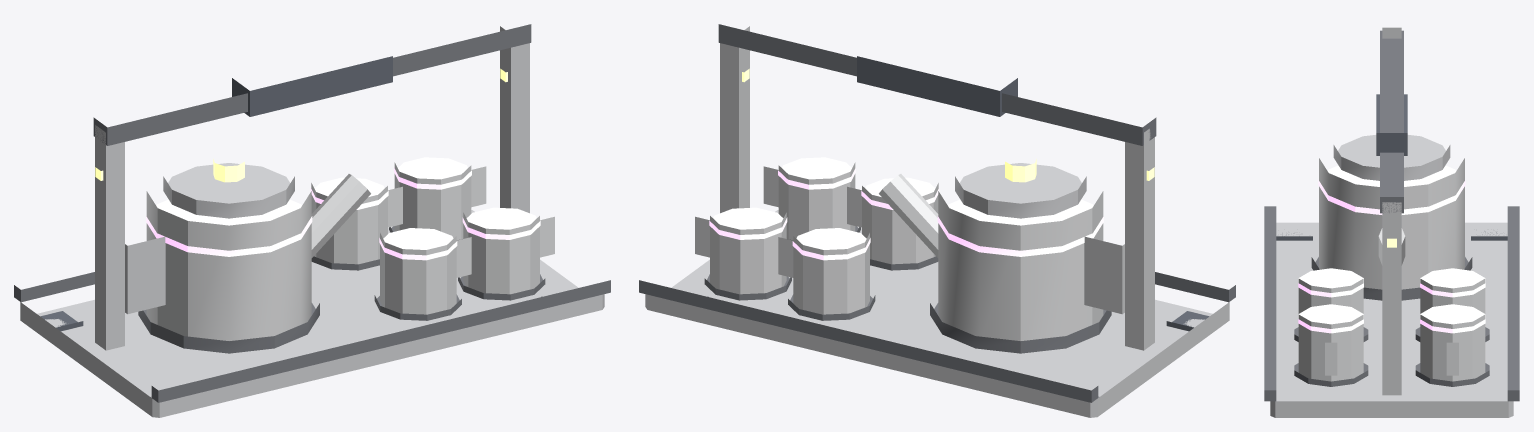
The model's file is tea_set_rail_caddy.glb.
3 renders of one model, left to right at view 1: azimuth 30°, elevation 25°; view 2: azimuth 150°, elevation 25°; view 3: azimuth 270°, elevation 25°, orthographic. The views are drawn at different scales.
Parts seen in each view (by area): view 1: Caddy_Base, Pot_Body, Cups, Handle_Posts, Caddy_Rim, Cup_Rim_Bands, Handle_Bar, Pot_Lid, Grip_Sleeve, Pot_Handle, Pot_Dock_Ring, Pot_Band (+3 smaller); view 2: Caddy_Base, Pot_Body, Cups, Handle_Posts, Caddy_Rim, Cup_Rim_Bands, Handle_Bar, Pot_Lid, Grip_Sleeve, Pot_Handle, Pot_Dock_Ring, Pot_Band (+3 smaller); view 3: Caddy_Base, Pot_Body, Cups, Cup_Rim_Bands, Caddy_Rim, Handle_Posts, Handle_Bar, Pot_Lid, Pot_Band, Peg_Collars, Grip_Sleeve, Cup_Handles (+3 smaller).
Part boxes in pixels (x1,y1,x2,y2): Caddy_Base: [20, 210, 604, 417]; Pot_Body: [146, 191, 311, 340]; Cups: [311, 162, 539, 314]; Handle_Posts: [95, 26, 529, 350]; Caddy_Rim: [14, 272, 610, 402]; Cup_Rim_Bands: [310, 157, 540, 260]; Handle_Bar: [93, 24, 531, 145]; Pot_Lid: [163, 163, 294, 218]; Grip_Sleeve: [232, 56, 392, 116]; Pot_Handle: [125, 236, 165, 314]; Pot_Dock_Ring: [138, 303, 319, 353]; Pot_Band: [146, 199, 312, 256]; Caddy_Base: [645, 210, 1229, 417]; Pot_Body: [938, 191, 1103, 340]; Cups: [710, 162, 938, 314]; Handle_Posts: [720, 26, 1154, 350]; Caddy_Rim: [639, 272, 1235, 402]; Cup_Rim_Bands: [709, 157, 939, 260]; Handle_Bar: [718, 24, 1156, 145]; Pot_Lid: [955, 163, 1086, 218]; Grip_Sleeve: [857, 56, 1017, 116]; Pot_Handle: [1084, 236, 1124, 314]; Pot_Dock_Ring: [930, 303, 1111, 353]; Pot_Band: [937, 199, 1103, 256]; Caddy_Base: [1270, 222, 1513, 417]; Pot_Body: [1319, 158, 1464, 289]; Cups: [1298, 278, 1485, 381]; Cup_Rim_Bands: [1298, 268, 1485, 333]; Caddy_Rim: [1264, 206, 1519, 401]; Handle_Posts: [1382, 27, 1401, 395]; Handle_Bar: [1380, 30, 1403, 213]; Pot_Lid: [1333, 135, 1450, 180]; Pot_Band: [1318, 165, 1465, 214]; Peg_Collars: [1294, 327, 1489, 386]; Grip_Sleeve: [1376, 94, 1407, 155]; Cup_Handles: [1325, 342, 1458, 375].
Bounding box in the file's own units: 0.38 × 0.198 × 0.21.
